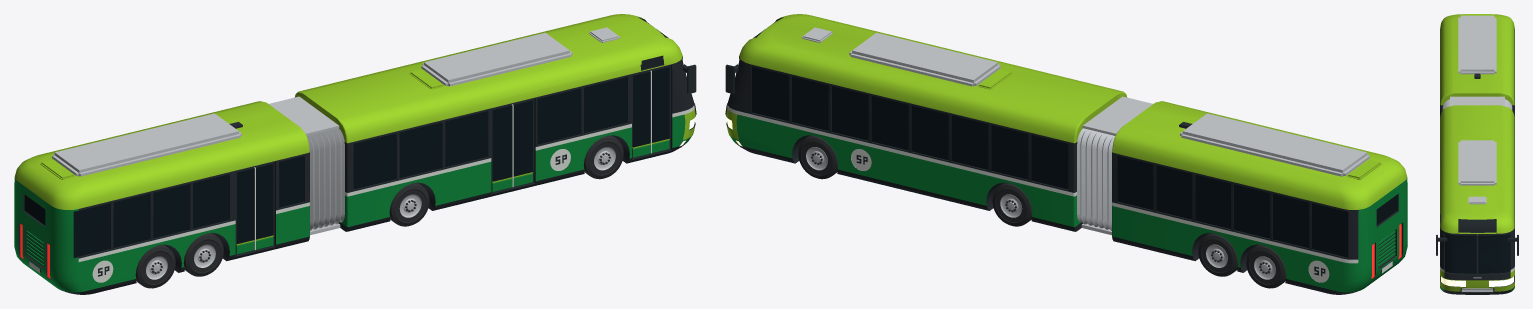
Rendered from sao-paulo-bus.glb.
The picture shows the model from 3 angles, left to right: view 1: azimuth 30°, elevation 25°; view 2: azimuth 150°, elevation 25°; view 3: azimuth 270°, elevation 25°; orthographic projection. The views are drawn at different scales.
Visible parts, largest first — view 1: BusAccent, BusGlass, BusMetal, BusBody, BusTrim, BusRubber, BusSweep; view 2: BusAccent, BusGlass, BusBody, BusMetal, BusTrim, BusRubber, BusSweep; view 3: BusAccent, BusMetal, BusGlass, BusTrim, BusDisplay, BusHeadlight.
Boxes of the visible parts, x1,y1,x2,y2 form: BusAccent: [14, 14, 696, 245]; BusGlass: [24, 60, 694, 257]; BusMetal: [52, 27, 620, 279]; BusBody: [14, 114, 692, 292]; BusTrim: [18, 17, 696, 294]; BusRubber: [135, 135, 623, 288]; BusSweep: [29, 70, 694, 282]; BusAccent: [725, 14, 1407, 209]; BusGlass: [727, 60, 1397, 257]; BusBody: [729, 114, 1407, 292]; BusMetal: [801, 27, 1369, 279]; BusTrim: [725, 17, 1403, 294]; BusRubber: [798, 135, 1286, 288]; BusSweep: [727, 105, 1392, 282]; BusAccent: [1440, 14, 1514, 291]; BusMetal: [1442, 15, 1512, 291]; BusGlass: [1445, 233, 1509, 273]; BusTrim: [1436, 28, 1518, 294]; BusDisplay: [1458, 219, 1496, 231]; BusHeadlight: [1441, 276, 1513, 286].
Size of the model in its own units: 16.76 by 3.1 by 2.7.
